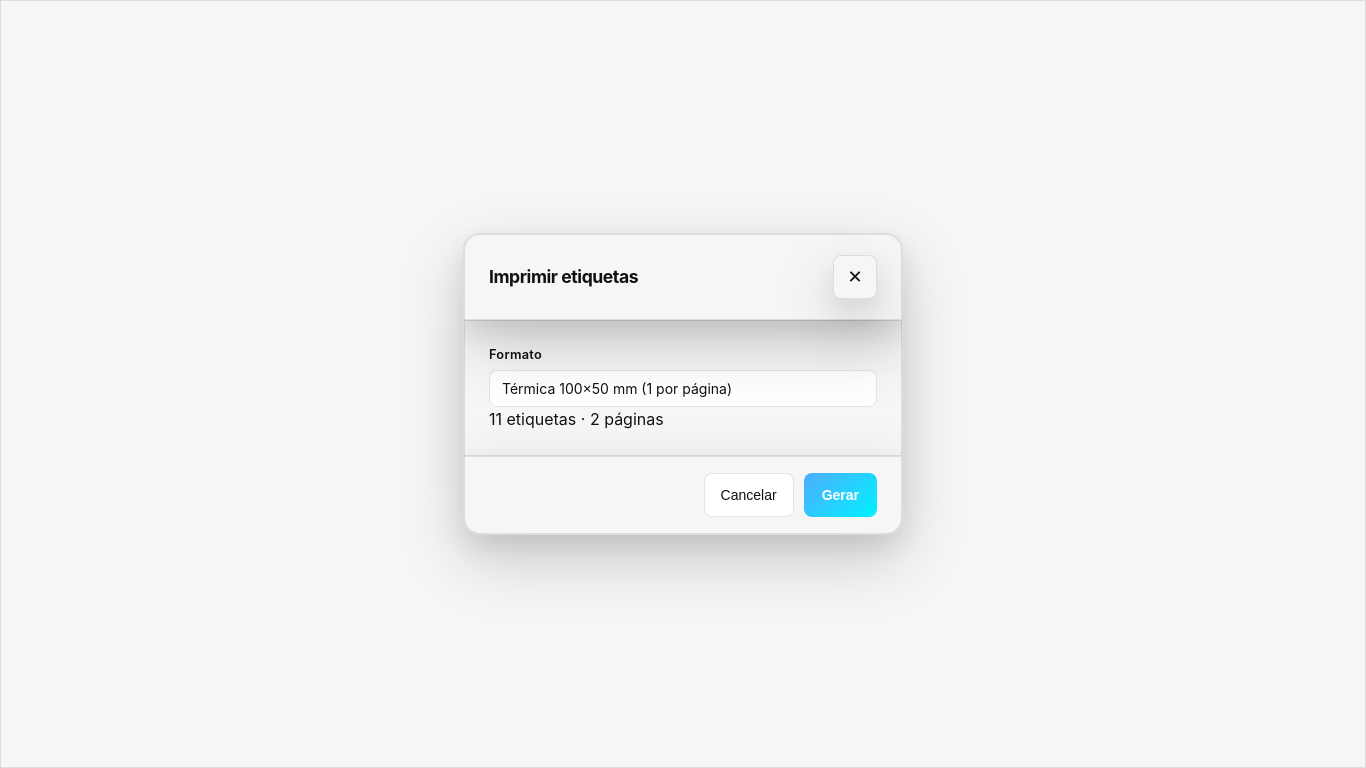
Test: EtiquetasPdfModal › contagem mostra N etiquetas e M paginas por formato
Select "Térmica 100×50 mm (1 por página)" in the dropdown: (683, 389) [489,370,877,407]
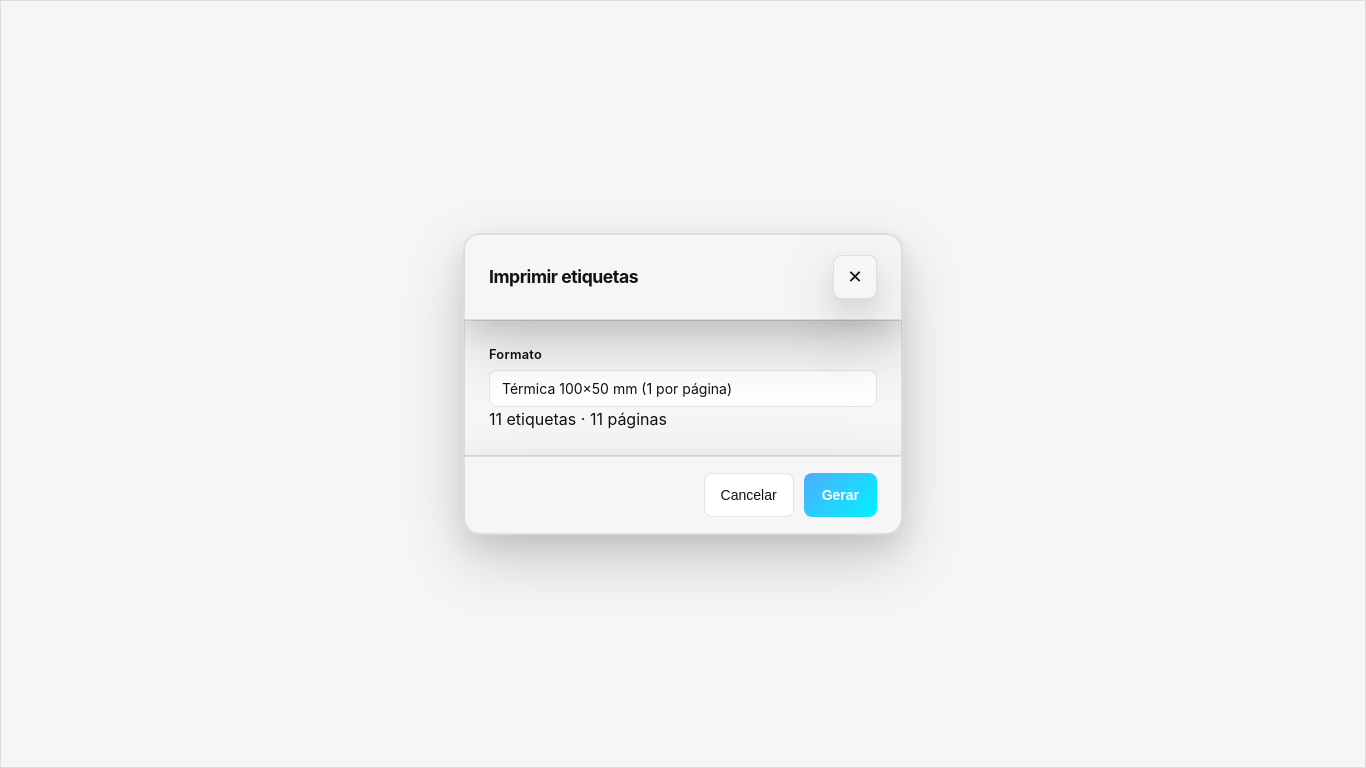
Now the text "11 etiquetas · 11 páginas" is shown, box [489,409,667,429]
